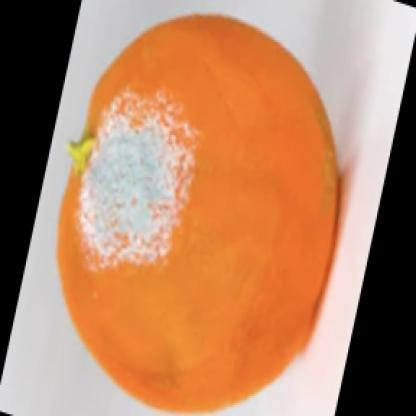rotten: (58, 15, 340, 416)
